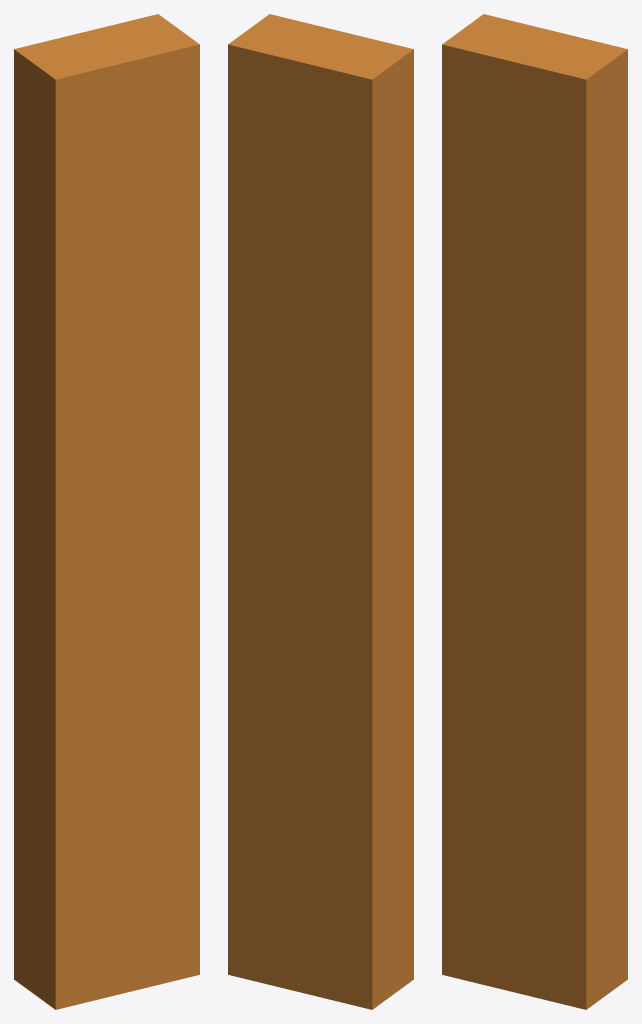
3 renders of one model, left to right at view 1: azimuth 30°, elevation 25°; view 2: azimuth 150°, elevation 25°; view 3: azimuth 330°, elevation 25°, orthographic.
Visible parts, largest first — view 1: L4-6-M2-3F9-M05; view 2: L4-6-M2-3F9-M05; view 3: L4-6-M2-3F9-M05.
Part boxes in pixels (x1,y1,x2,y2): L4-6-M2-3F9-M05: [14, 14, 199, 1009]; L4-6-M2-3F9-M05: [228, 14, 413, 1009]; L4-6-M2-3F9-M05: [442, 14, 627, 1009].
Bounding box in the file's own units: 0.09 × 0.5546 × 0.045.
